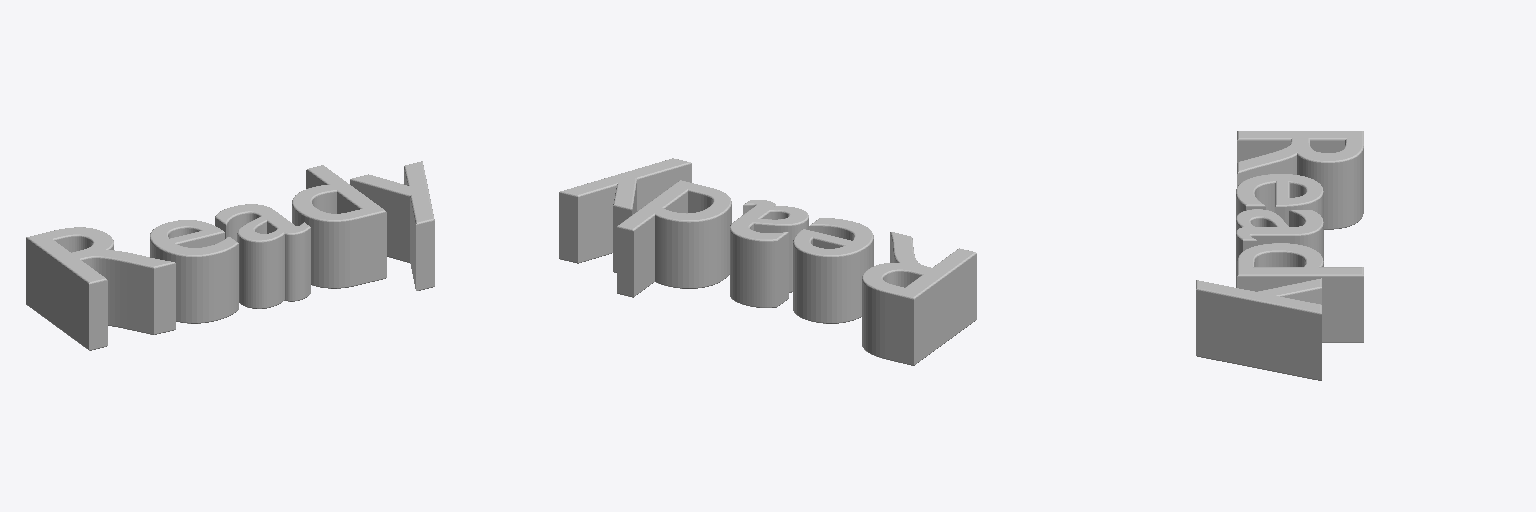
Rendered from rReady.obj.
3 views of the same model, side by side, from view 1: azimuth 30°, elevation 25°; view 2: azimuth 150°, elevation 25°; view 3: azimuth 270°, elevation 25° (orthographic).
Parts seen in each view (by area): view 1: テキスト; view 2: テキスト; view 3: テキスト.
Boxes of the visible parts, x1=… form: テキスト: x1=26, y1=161, x2=434, y2=350; テキスト: x1=559, y1=158, x2=976, y2=365; テキスト: x1=1196, y1=131, x2=1363, y2=380.
Size of the model in its own units: 2.41 by 0.42 by 0.932.